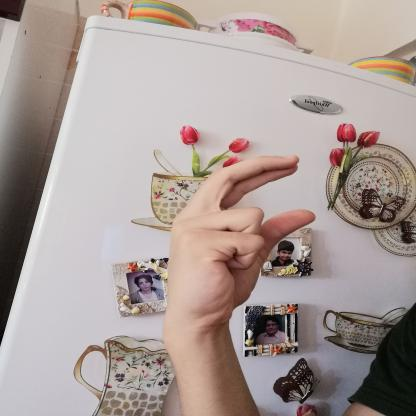DHELL: (153, 145, 324, 334)
